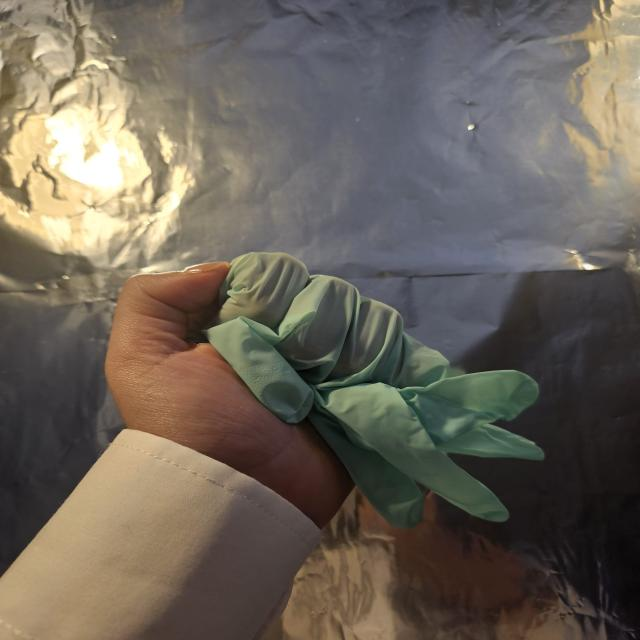glove_partial: (101, 251, 546, 530)
